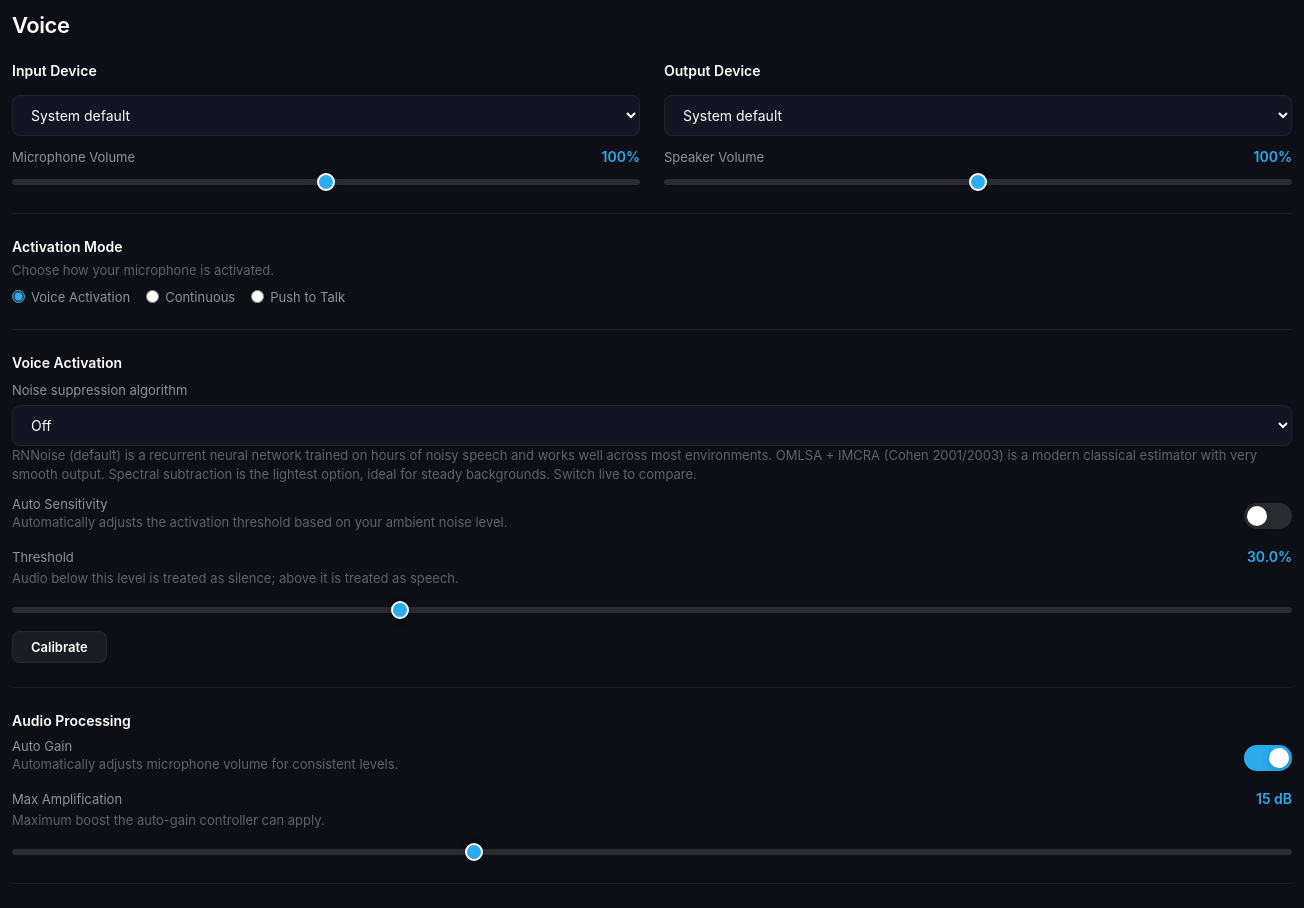
Test: Calibrate › hides VU meter after stopping
Click the button "Calibrate" at (59, 646), box [12, 630, 107, 662]
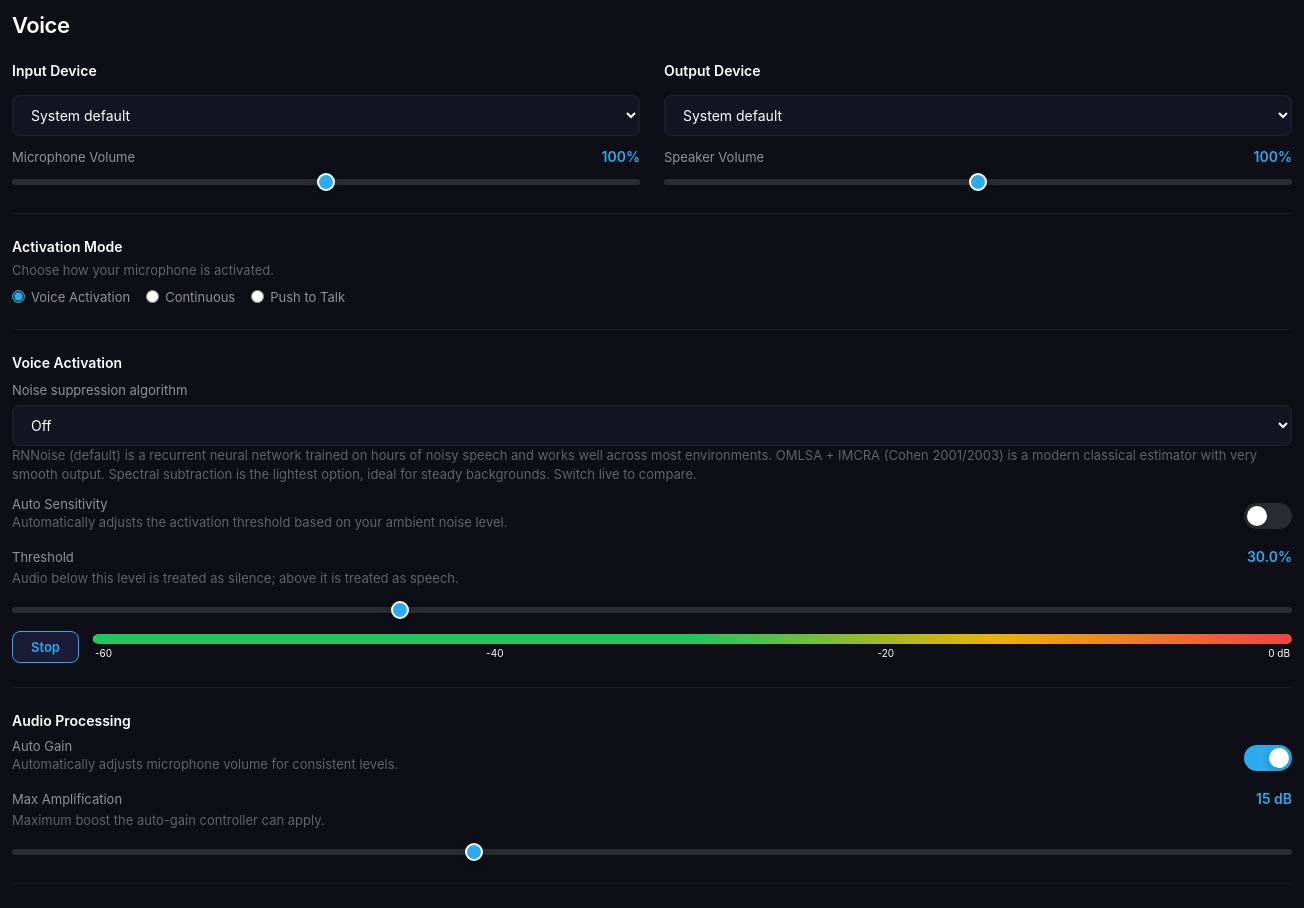
Click the button "Stop" at (46, 646), box [12, 630, 79, 662]
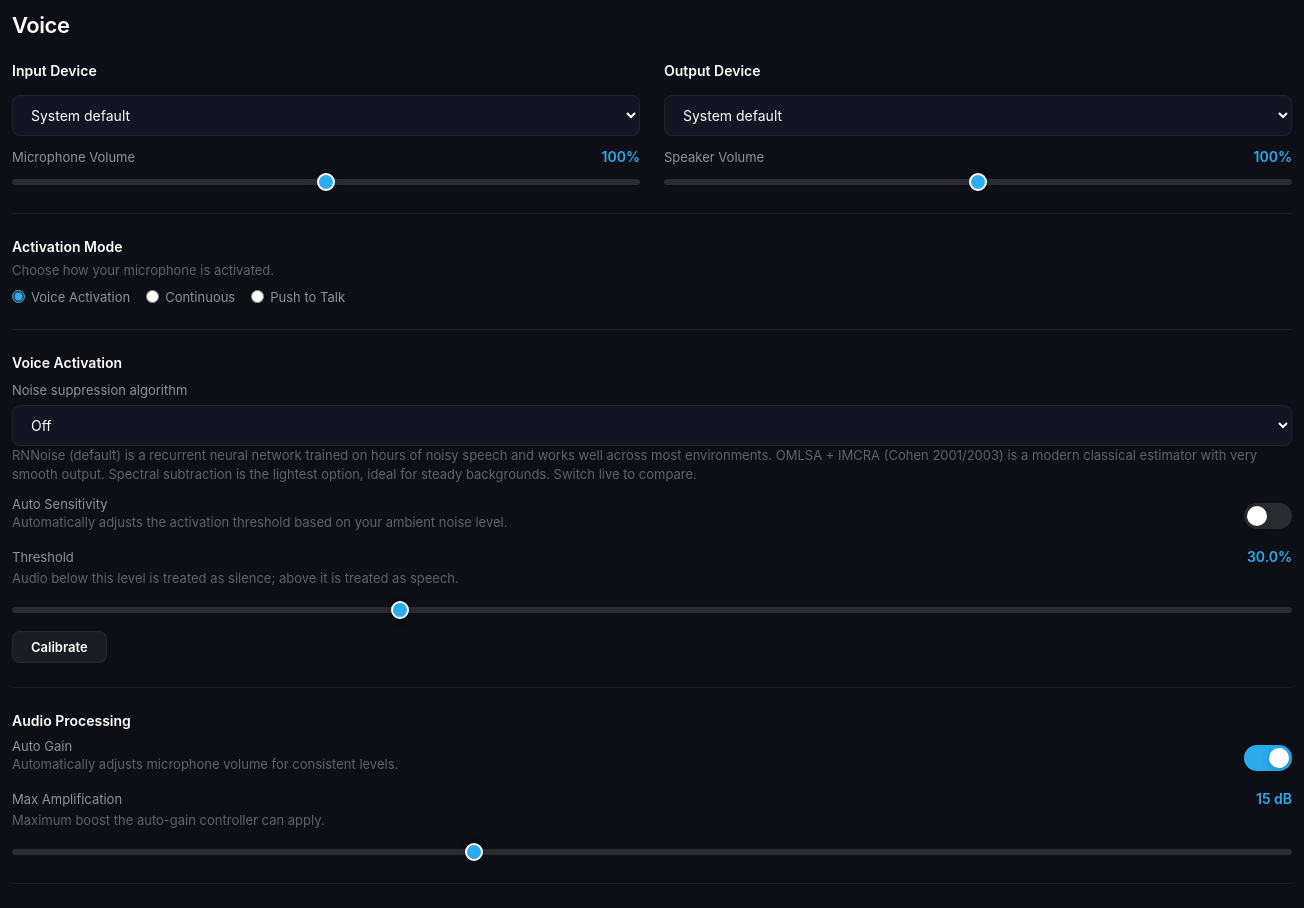
Check: the button "Calibrate" is shown, box [12, 630, 107, 662]
